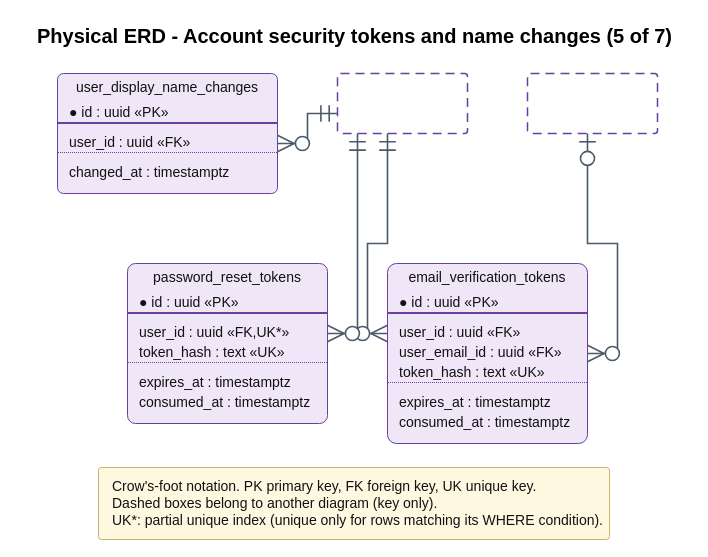
This 708x557 diagram has some shape labels left out. The centre of each missing label's shape, as x and y in pixels:
"user_emails ● id : uuid «PK»" belongs at pixel 592 103.
"users ● id : uuid «PK»" belongs at pixel 402 103.
